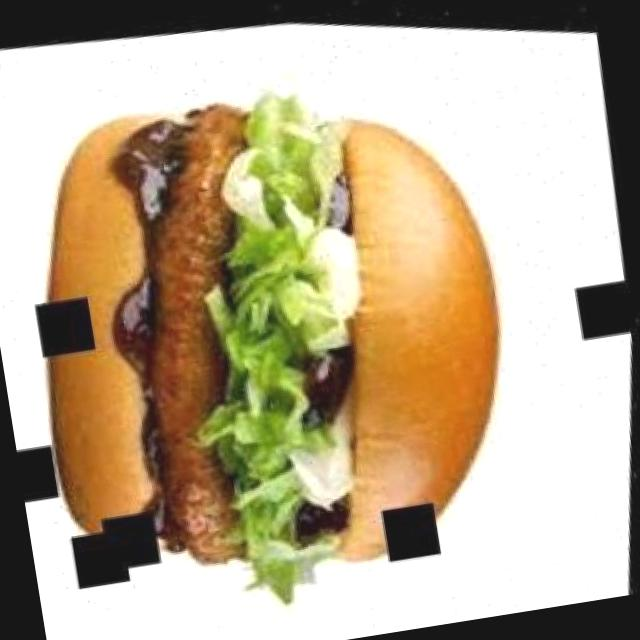Burger: (78, 96, 319, 576)
